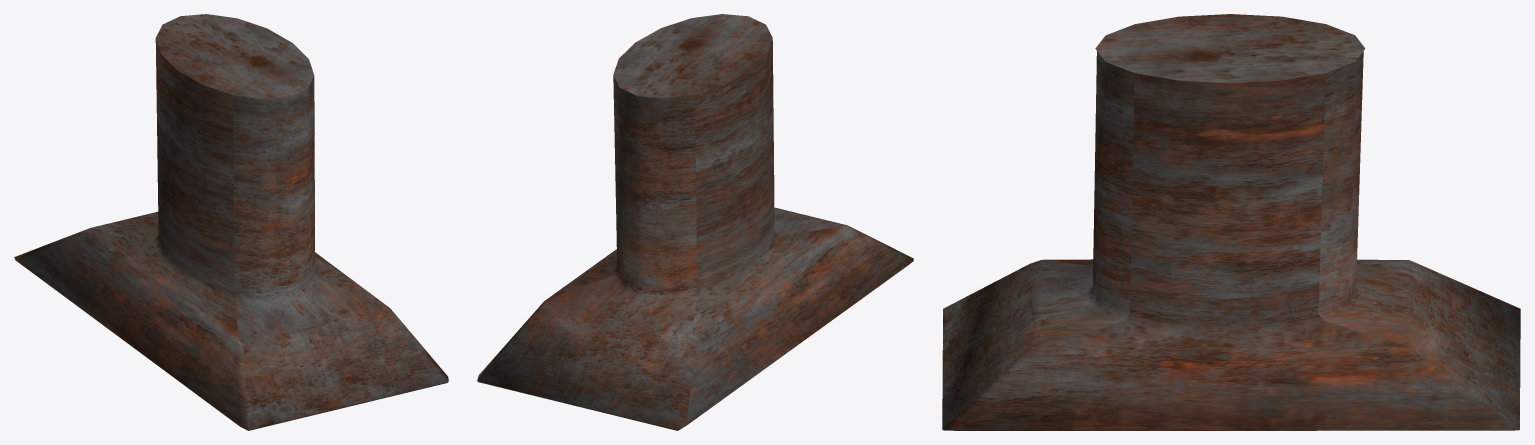
The model's file is exaustortex.fbx.
3 views of the same model, side by side, from view 1: azimuth 30°, elevation 25°; view 2: azimuth 150°, elevation 25°; view 3: azimuth 270°, elevation 25° (orthographic). The views are drawn at different scales.
Parts seen in each view (by area): view 1: Cylinder.001; view 2: Cylinder.001; view 3: Cylinder.001.
Part boxes in pixels (box(x1,y1,x2,y2)): Cylinder.001: box(14, 14, 448, 430); Cylinder.001: box(477, 14, 913, 430); Cylinder.001: box(942, 14, 1520, 430).
Bounding box in the file's own units: 540 × 654 × 1056.
1 material, 1 textured.
